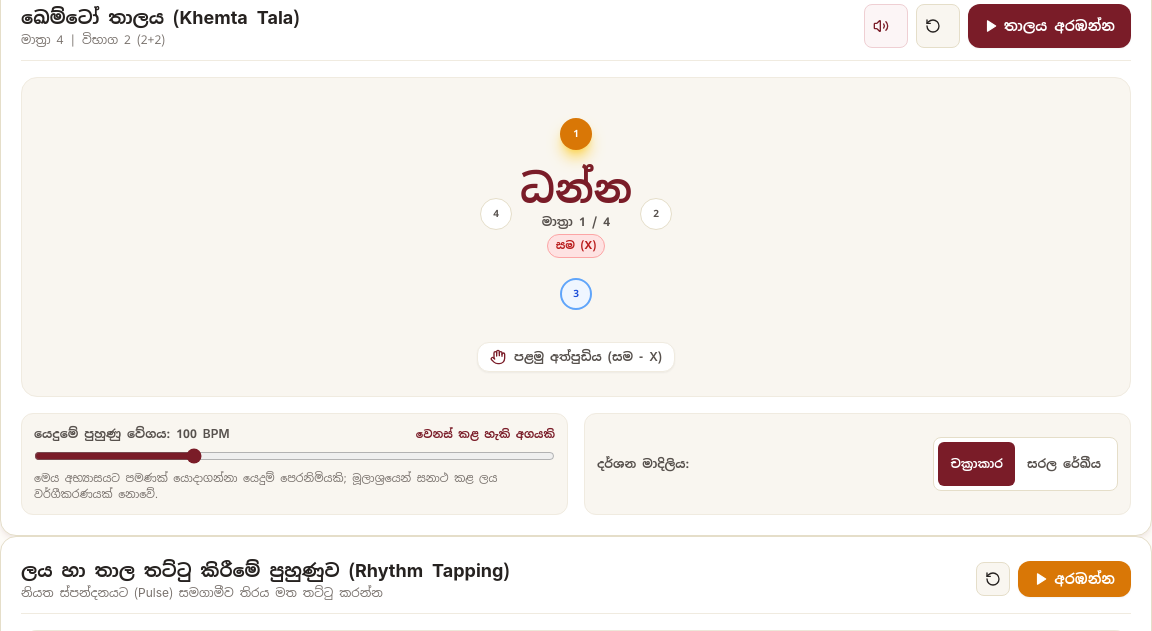
Test: RhythmTapGame playback ownership › keeps a co-mounted rhythm caller advancing when the Tala visualizer stops
Click the button "අරඹන්න" at (1075, 579), box [1018,561,1131,597]
Wait 600 ms
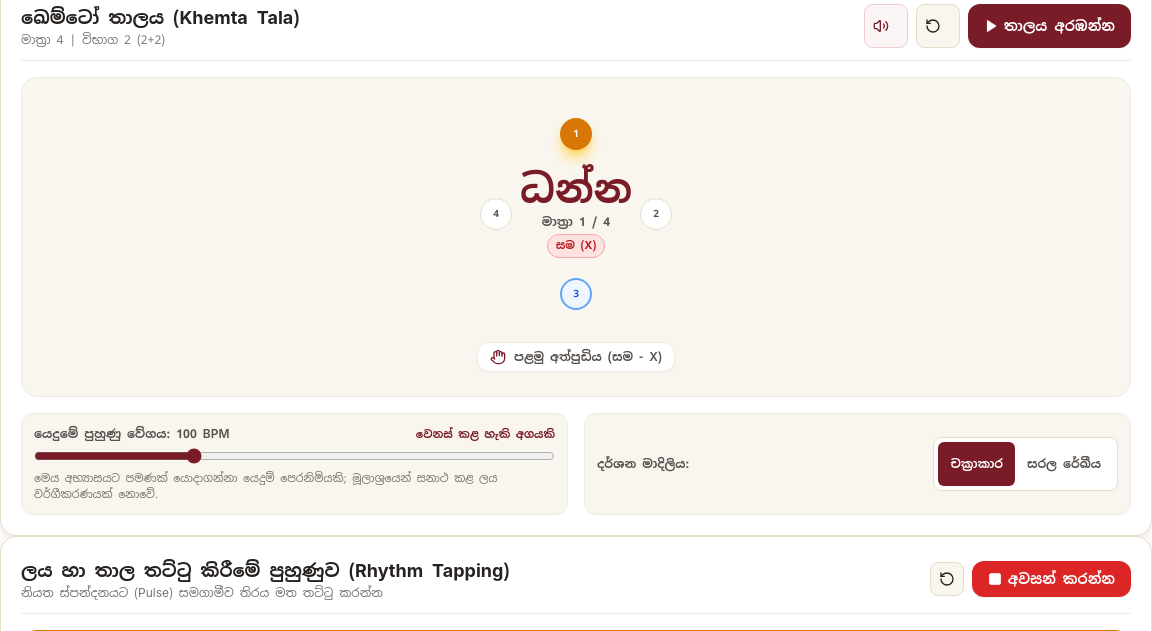
Click the button "තාලය අරඹන්න" at (1050, 26), box [968,4,1131,48]
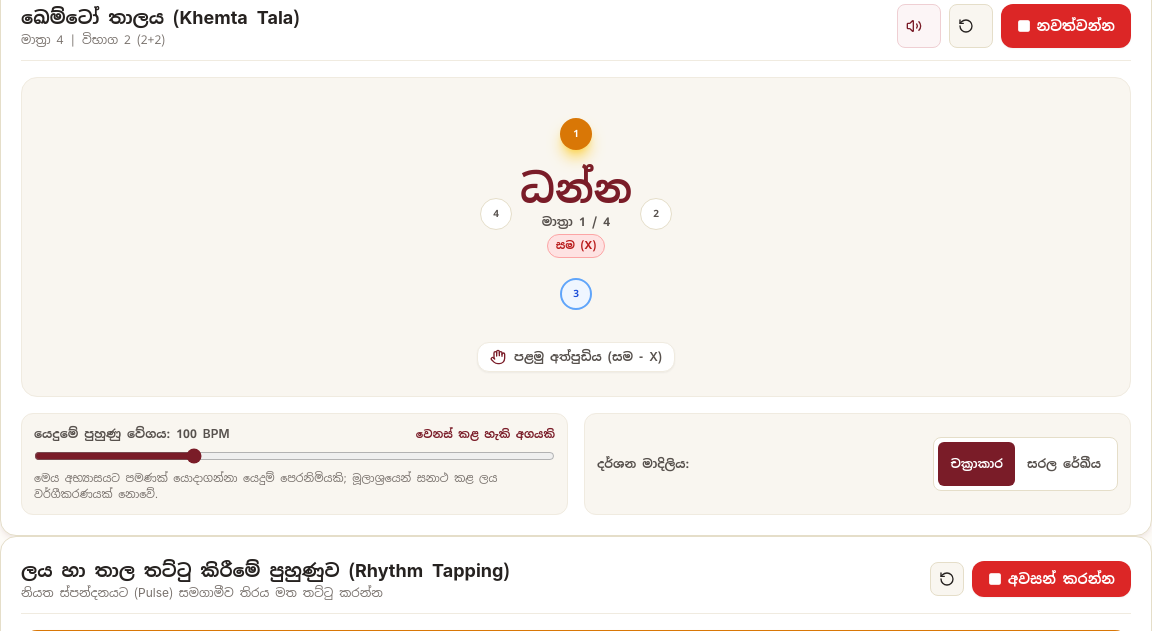
Click the button "නවත්වන්න" at (1066, 26), box [1000,4,1131,48]
Wait 600 ms
(page scrolled)
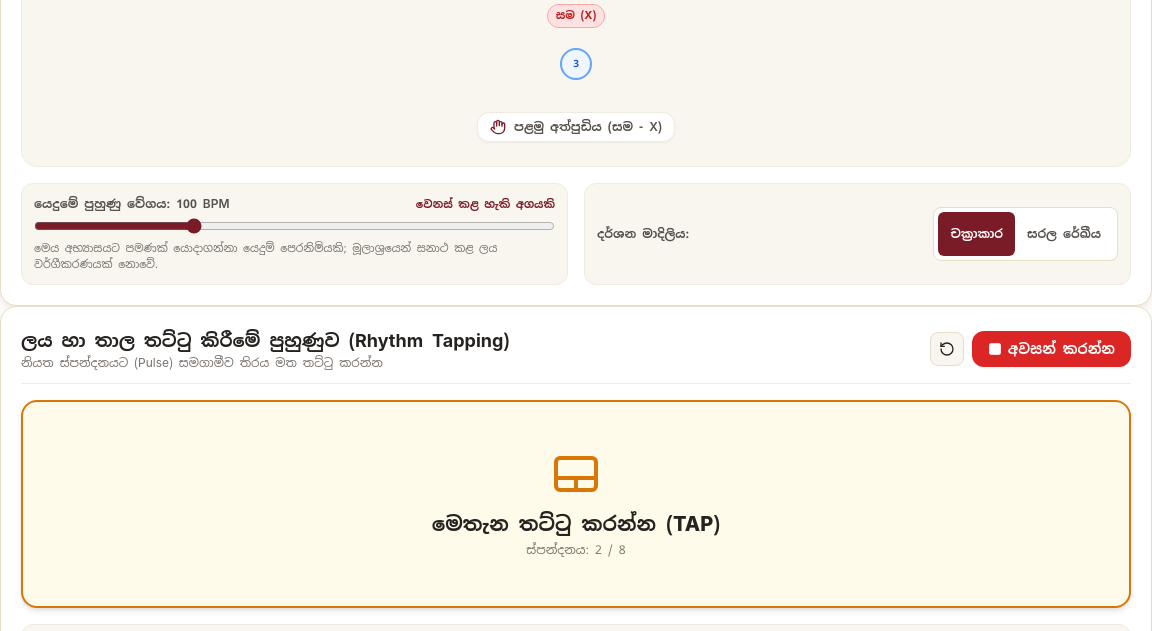
Result: the text "ස්පන්දනය: 2 / 8" is shown at [526,542,626,558]
